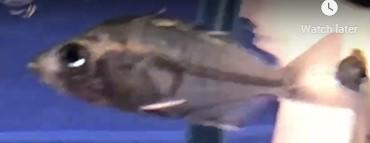Glass Perchlet: (18, 6, 353, 128)
